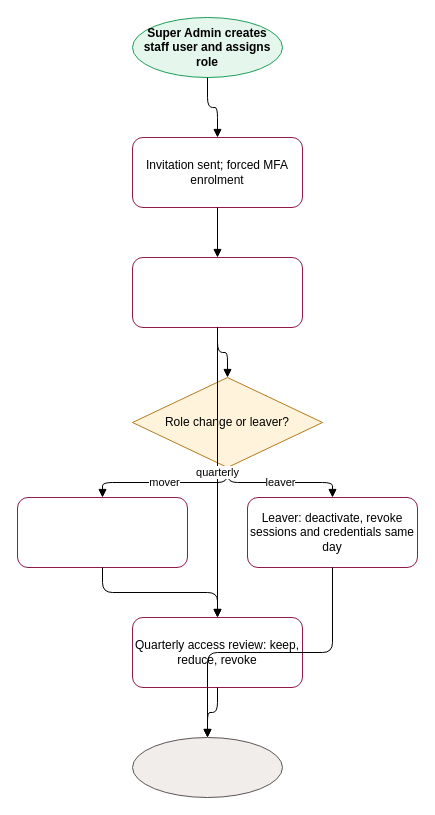
Some shapes in this 435 by 815 pixel diagram are drawn without their labels. Here are the shapes that lost their labels. From the top down, the box of each, then its label:
(132, 256, 302, 328): Access granted after MFA
(16, 496, 188, 568): Role change via approval (requester != approver)
(132, 736, 282, 798): Evidence exported; audit logged
